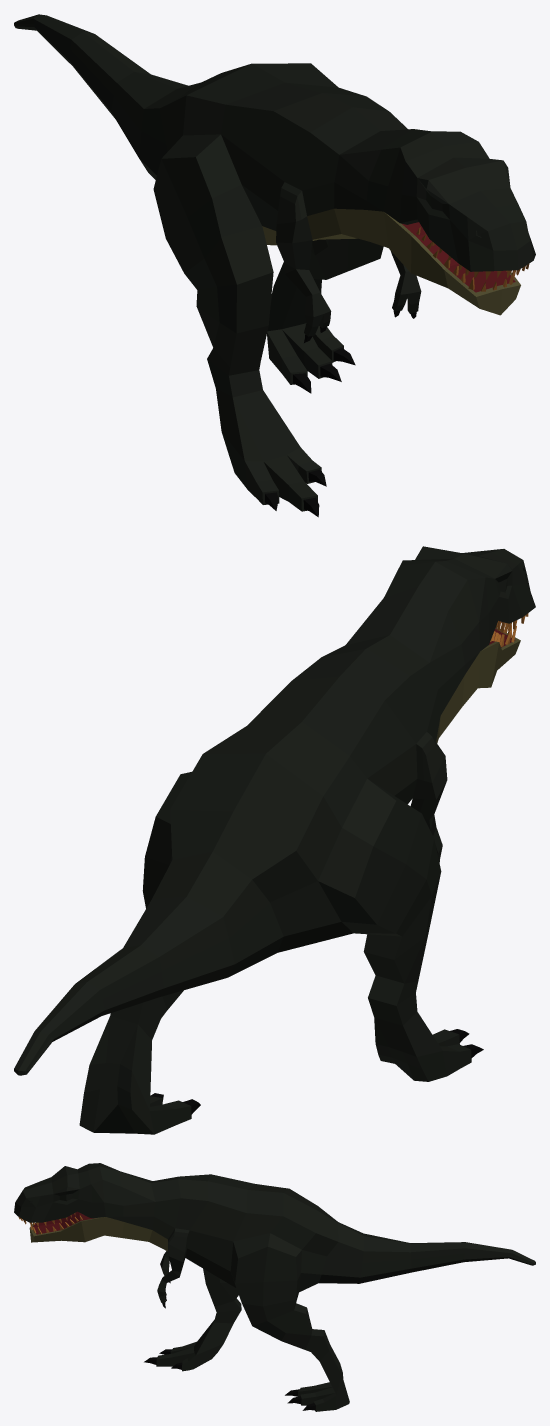
Rendered from Trex_000017.obj.
3 views of the same model, one above another, from view 1: azimuth 30°, elevation 25°; view 2: azimuth 150°, elevation 25°; view 3: azimuth 270°, elevation 25° (orthographic). The views are drawn at different scales.
Parts seen in each view (by area): view 1: Trex_Cylinder; view 2: Trex_Cylinder; view 3: Trex_Cylinder.
Boxes of the visible parts, bbox=[...] form: Trex_Cylinder: bbox=[14, 14, 535, 517]; Trex_Cylinder: bbox=[14, 546, 535, 1134]; Trex_Cylinder: bbox=[14, 1163, 535, 1411].
Size of the model in its own units: 8.26 by 14.27 by 31.19.
